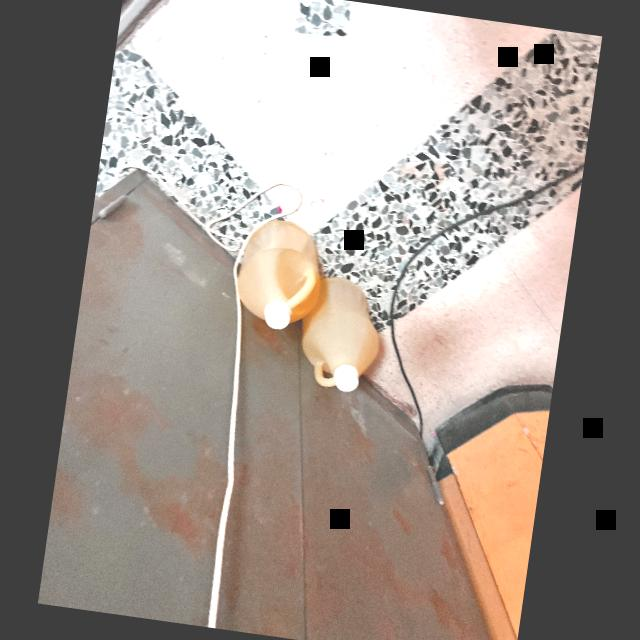chemical_plastic_gallon: (226, 210, 330, 336), (292, 272, 388, 402)
